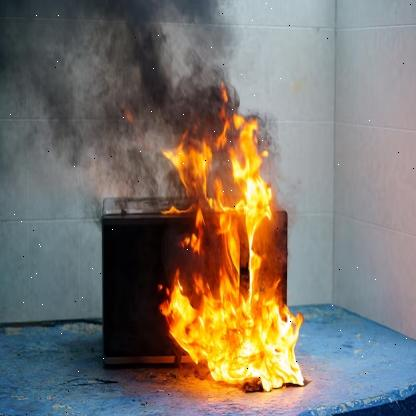fire: (154, 88, 306, 395)
smoke: (6, 3, 245, 206)
